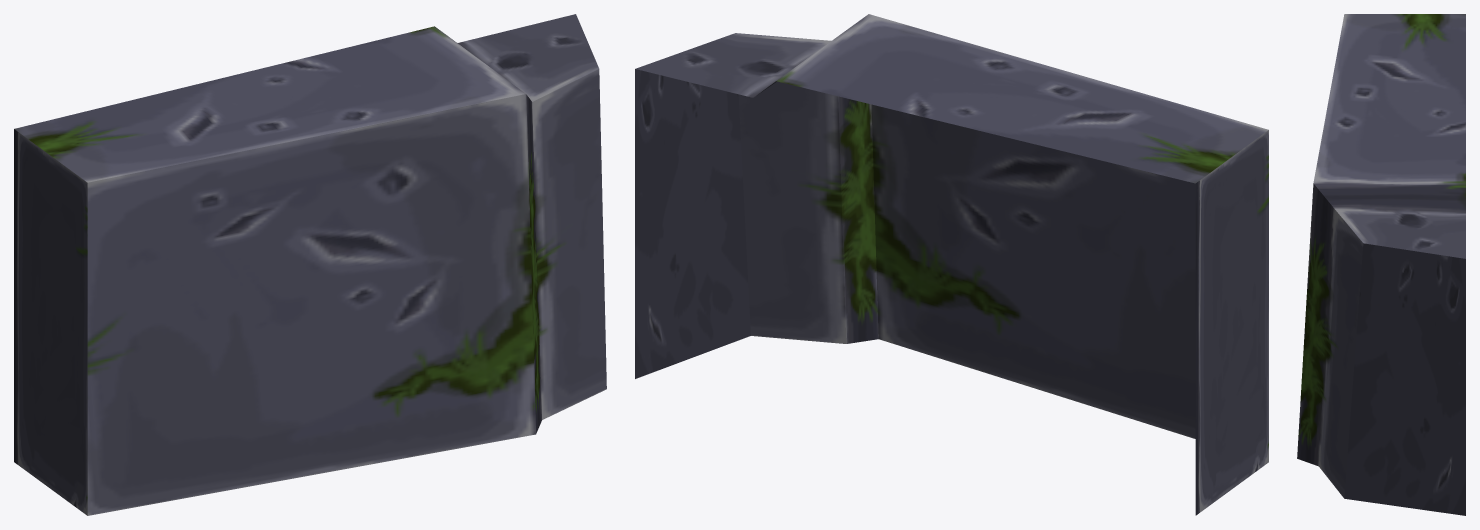
The model's file is MOD_WallTrim_01_E_straight_edge_R.fbx.
3 renders of one model, left to right at view 1: azimuth 30°, elevation 25°; view 2: azimuth 150°, elevation 25°; view 3: azimuth 270°, elevation 25°, orthographic. The views are drawn at different scales.
Parts seen in each view (by area): view 1: MOD_WallTrim_01_E_straight_edge_R; view 2: MOD_WallTrim_01_E_straight_edge_R; view 3: MOD_WallTrim_01_E_straight_edge_R.
Part boxes in pixels (box(x1,y1,x2,y2)): MOD_WallTrim_01_E_straight_edge_R: box(14, 14, 606, 515); MOD_WallTrim_01_E_straight_edge_R: box(635, 14, 1268, 515); MOD_WallTrim_01_E_straight_edge_R: box(1297, 14, 1465, 515).
Bounding box in the file's own units: 88.23 × 50 × 27.78.
